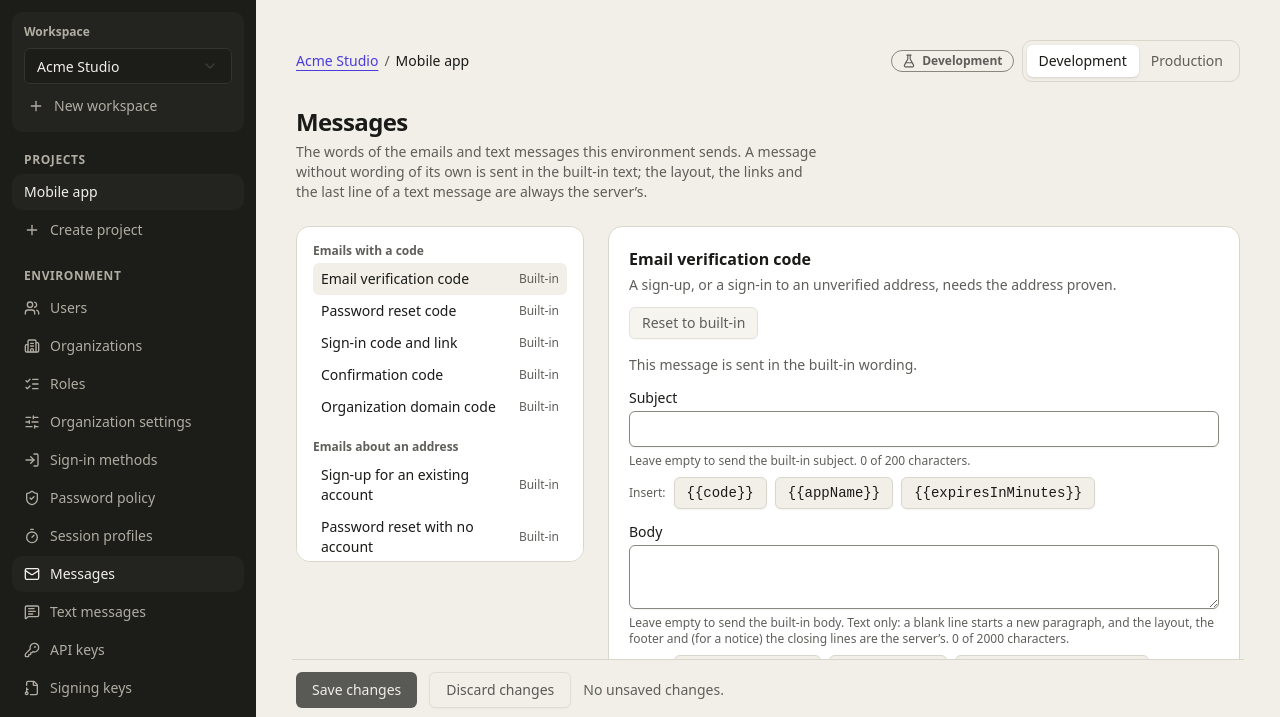
the messages screen › a placeholder goes in where the caret is, in place of what is selected
Click the field labelled "Subject".
click(924, 429)  # box [629,411,1219,447]
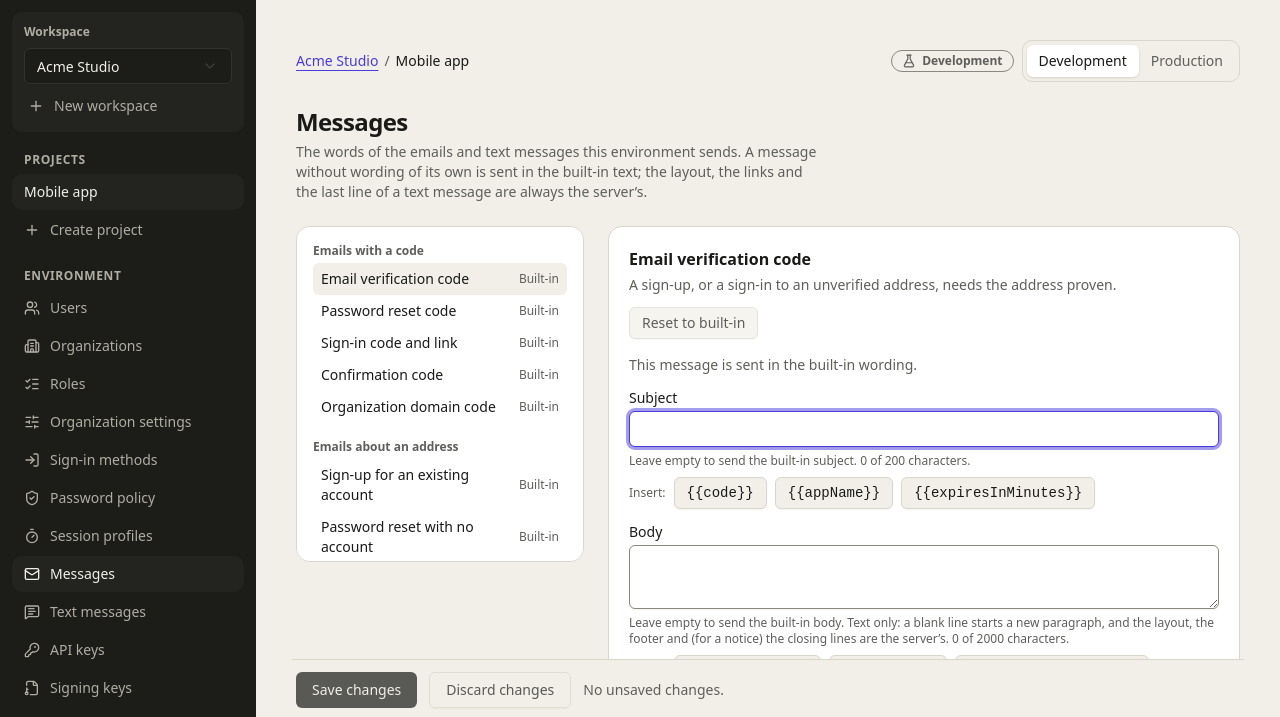
Type keys "Hello XX now"
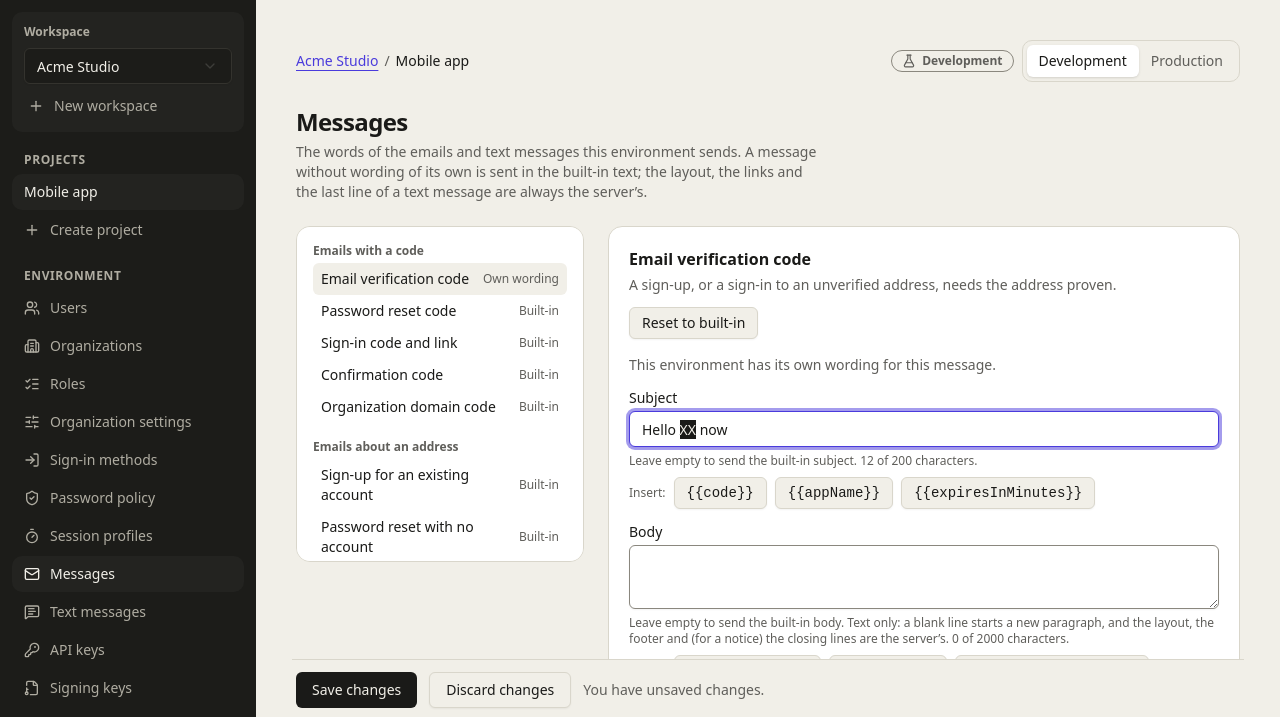
Click the button with aria-label "Insert {{appName}} into the subject".
click(834, 493)  # box [775,477,893,509]
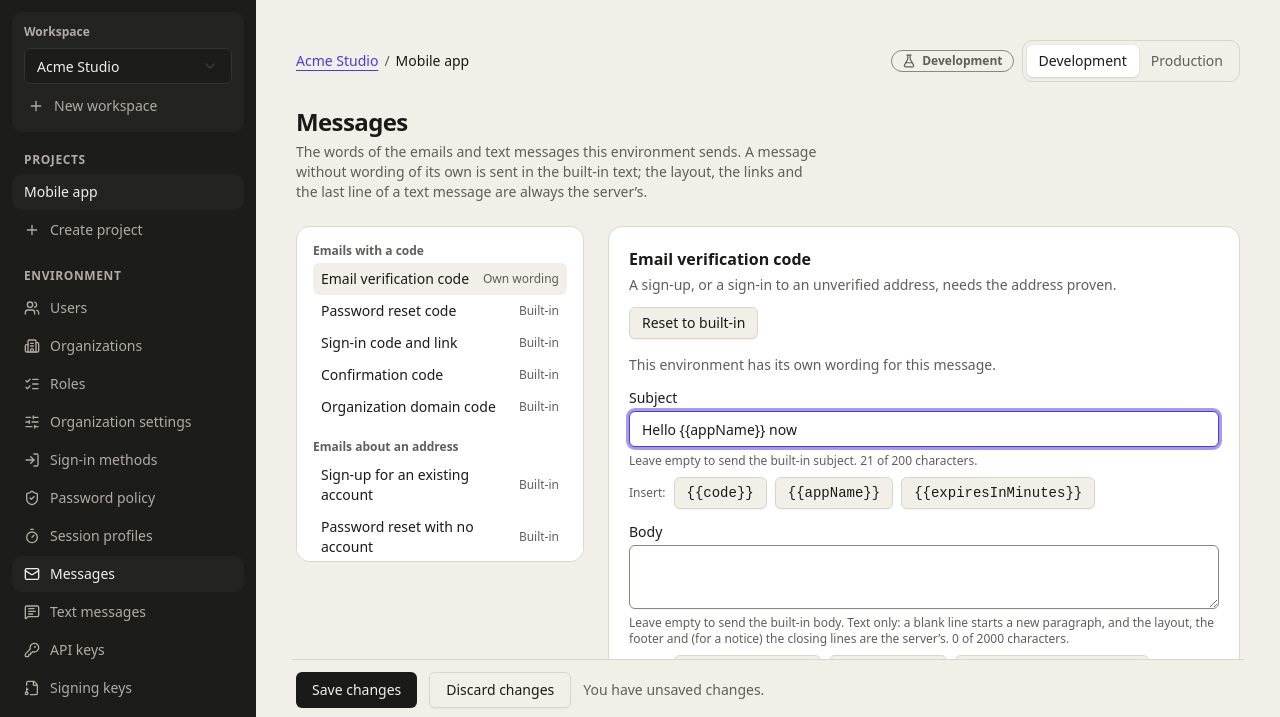
Expected: the field labelled "Subject" holds "Hello {{appName}} now", [629,411,1219,447]
